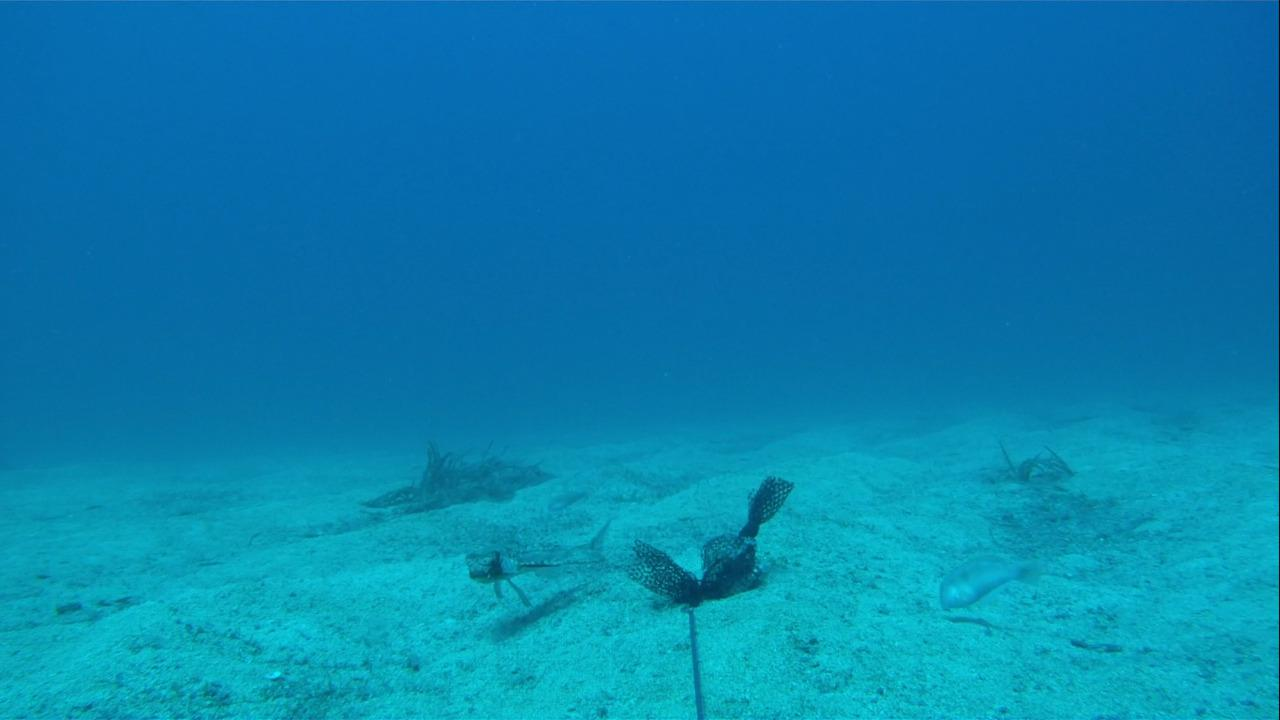dactylopterus: (462, 516, 625, 611)
raor: (935, 553, 1036, 614)
